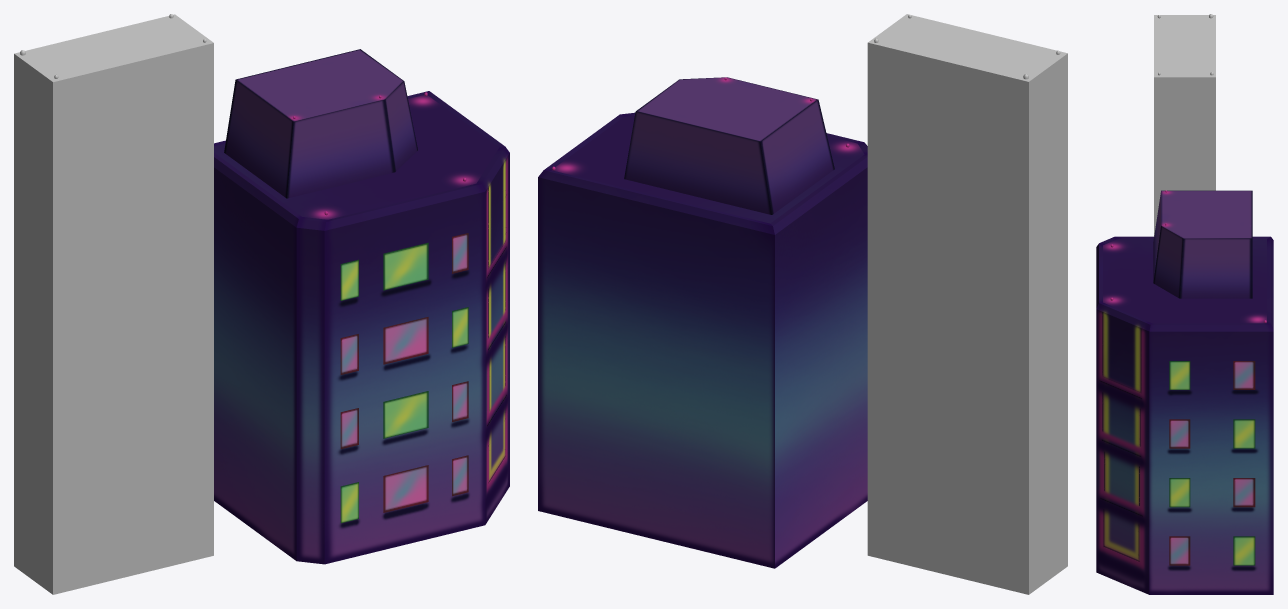
The model's file is BgMD_buil_04.fbx.
3 renders of one model, left to right at view 1: azimuth 30°, elevation 25°; view 2: azimuth 150°, elevation 25°; view 3: azimuth 270°, elevation 25°, orthographic. The views are drawn at different scales.
Parts seen in each view (by area): view 1: pCube3, polySurface18; view 2: pCube3, polySurface18; view 3: pCube3, polySurface18.
Part boxes in pixels (left/top/right/bottom): pCube3: left=214, top=49, right=509, bottom=564; polySurface18: left=14, top=14, right=213, bottom=594; pCube3: left=538, top=77, right=867, bottom=568; polySurface18: left=867, top=14, right=1067, bottom=594; pCube3: left=1096, top=190, right=1273, bottom=594; polySurface18: left=1154, top=14, right=1215, bottom=236.
Size of the model in its own units: 647 by 704 by 277.
